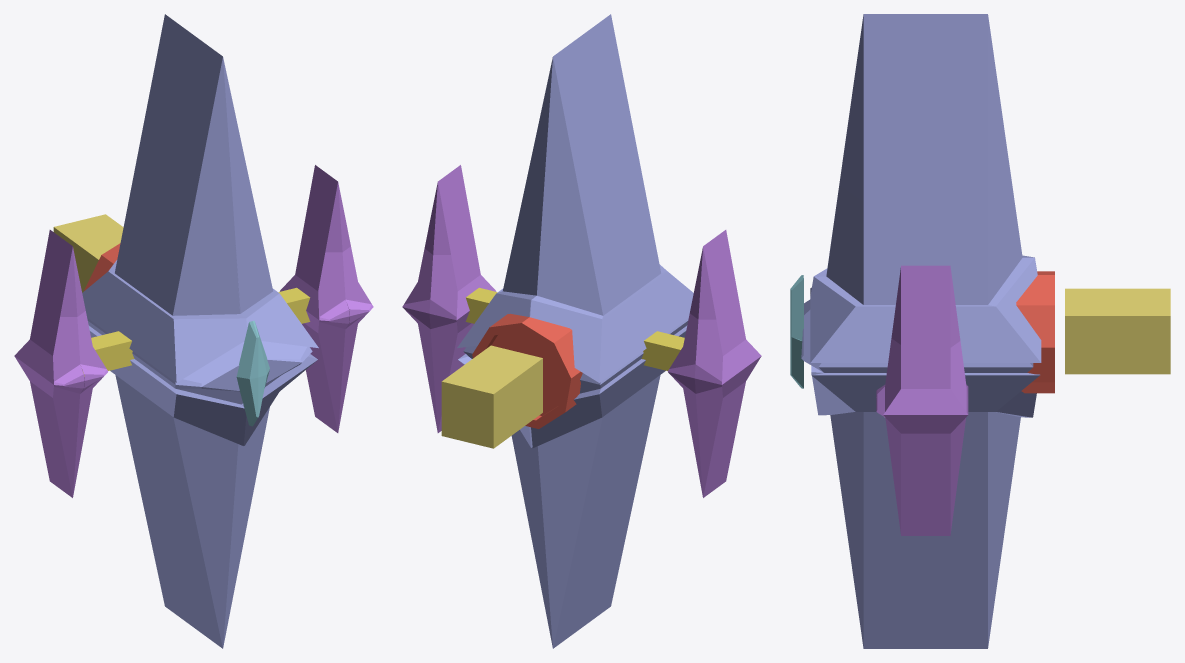
Rendered from enemy_ship4.glb.
The picture shows the model from 3 angles, left to right: view 1: azimuth 30°, elevation 25°; view 2: azimuth 150°, elevation 25°; view 3: azimuth 270°, elevation 25°; orthographic projection. The views are drawn at different scales.
Parts seen in each view (by area): view 1: MainObject, Cube.001, Cube.003, Cube.004, Cube.002, Cylinder; view 2: MainObject, Cube.001, Cube.003, Cylinder, Cube.002; view 3: MainObject, Cube.001, Cube.003, Cylinder, Cube.004.
Part boxes in pixels (bbox=[...]): MainObject: bbox=[82, 14, 318, 648]; Cube.001: bbox=[14, 165, 373, 497]; Cube.003: bbox=[53, 214, 123, 292]; Cube.004: bbox=[236, 320, 269, 426]; Cube.002: bbox=[82, 287, 310, 376]; Cylinder: bbox=[84, 243, 120, 290]; MainObject: bbox=[457, 14, 693, 648]; Cube.001: bbox=[402, 165, 761, 497]; Cube.003: bbox=[441, 345, 542, 448]; Cylinder: bbox=[472, 313, 582, 428]; Cube.002: bbox=[465, 287, 684, 370]; MainObject: bbox=[801, 14, 1041, 648]; Cube.001: bbox=[876, 265, 968, 535]; Cube.003: bbox=[1065, 288, 1170, 374]; Cylinder: bbox=[1016, 271, 1054, 393]; Cube.004: bbox=[790, 275, 803, 388].
Size of the model in its own units: 6.36 by 11.26 by 6.12.
